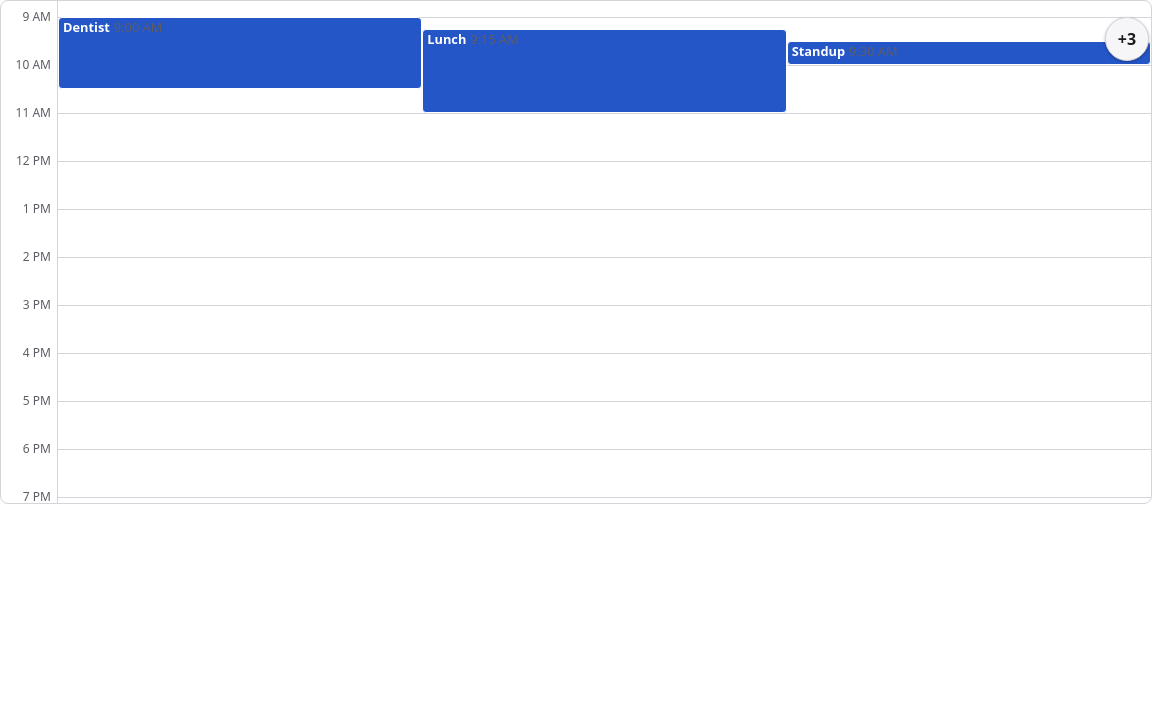
Test: TimeGrid › offers a full-size list for clusters of three or more overlapping events
(page scrolled)
Click the button named "3 events between 9:00 AM and 11:00 AM on Wednesday, October 14, 2026" at [1127, 39], box [1105,17,1149,61]
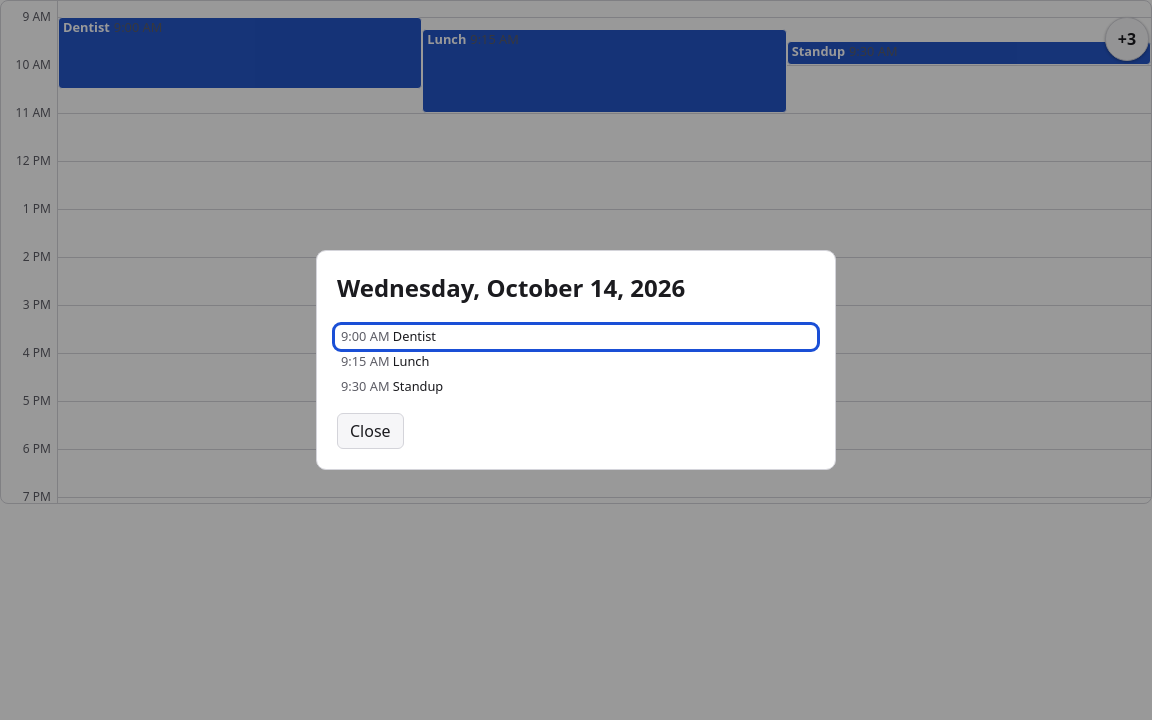
Now the number of buttons "9:00 AM Dentist" is 3, box [337,327,815,347]; [337,352,815,372]; [337,377,815,397]
